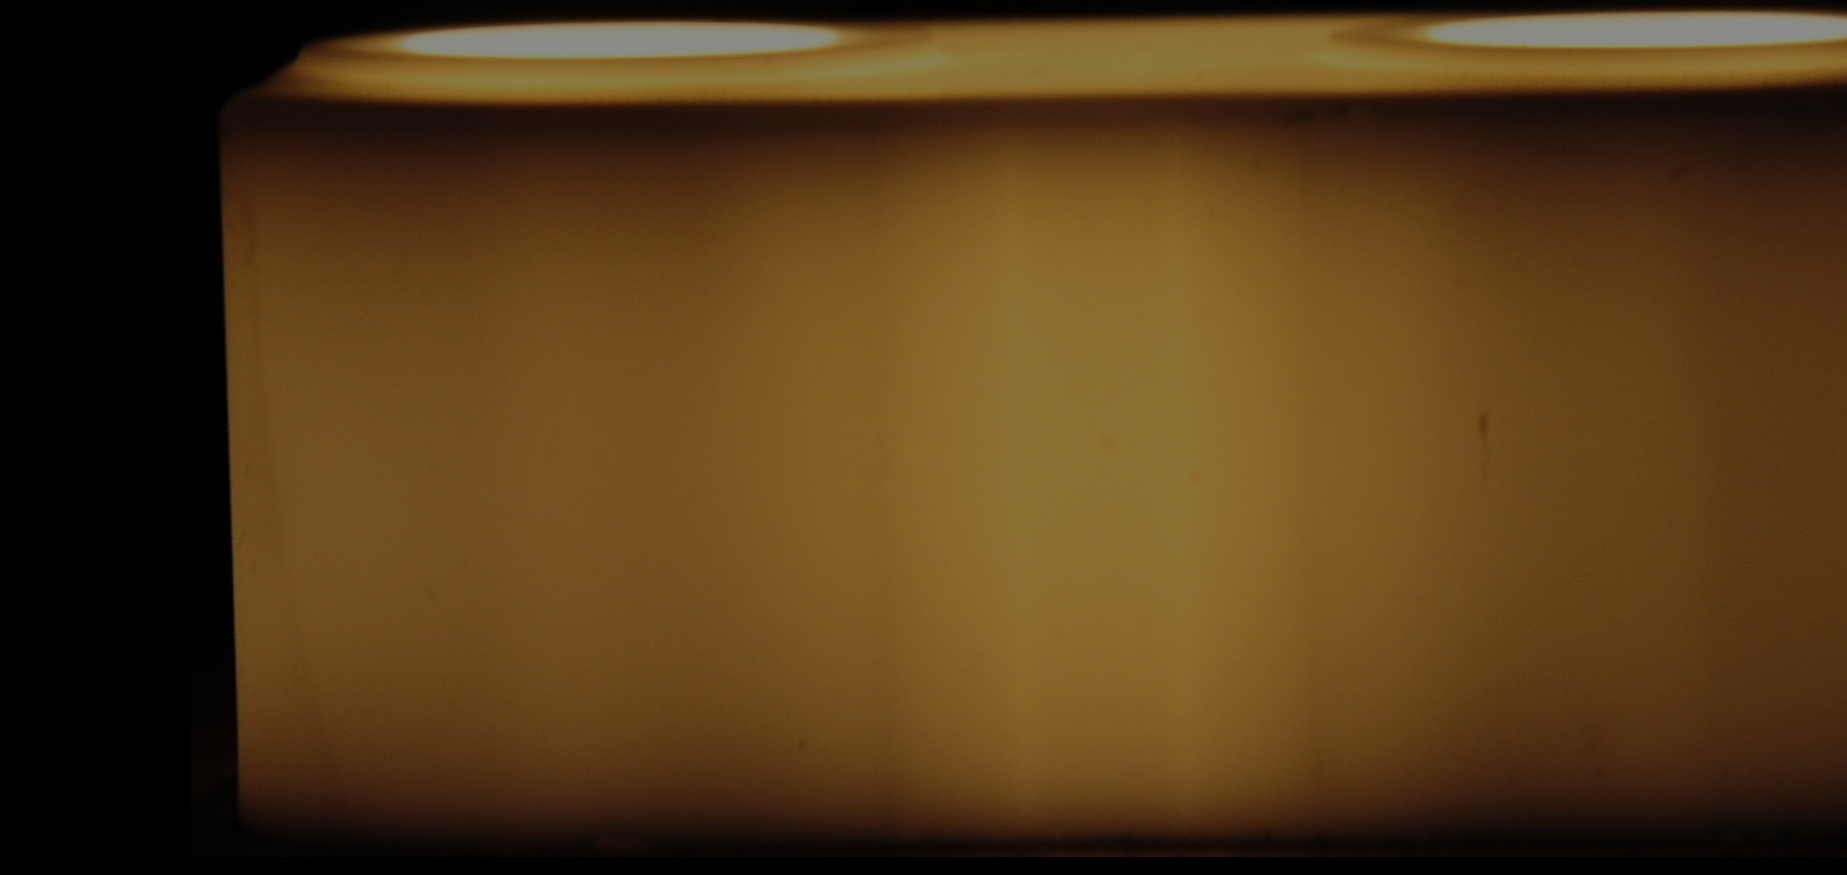flaw: (238, 104, 397, 830)
